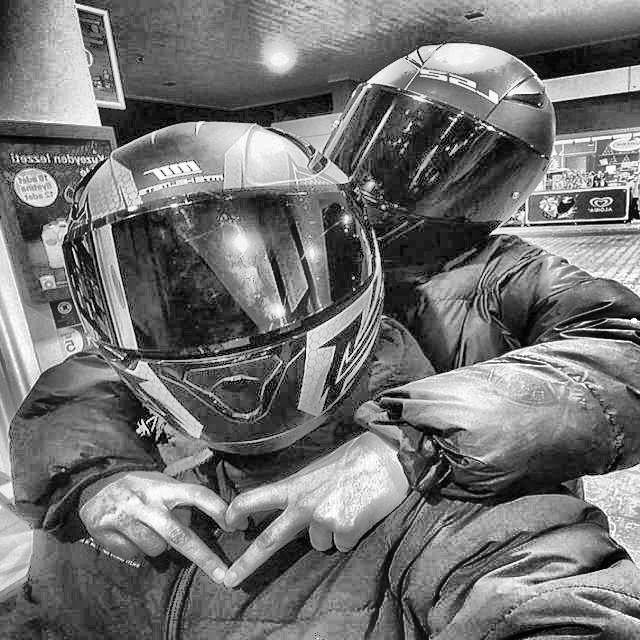Helmet: (54, 112, 392, 470), (317, 36, 564, 280)
